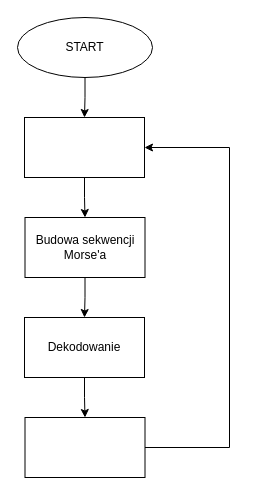
This 255x495 diagram has some shape labels left out. Each missing label, with the centre of its shape:
Odczyt przycisku: point 84,147
Transmisja RF: point 84,447
